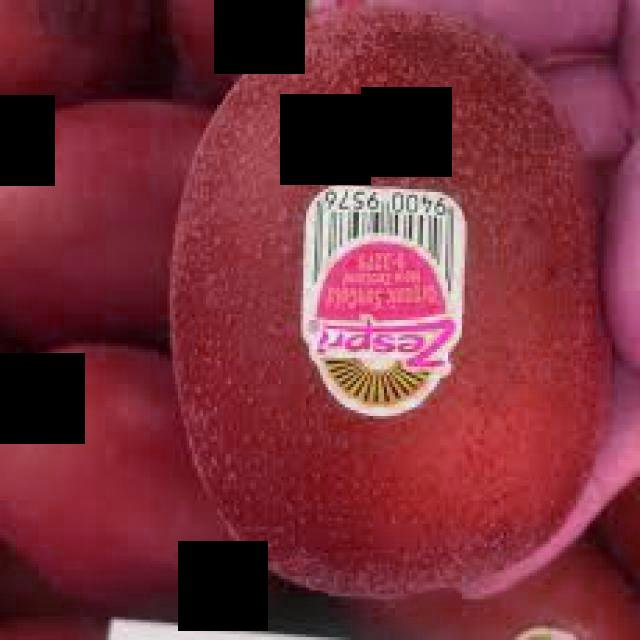kiwi: (168, 24, 597, 603)
